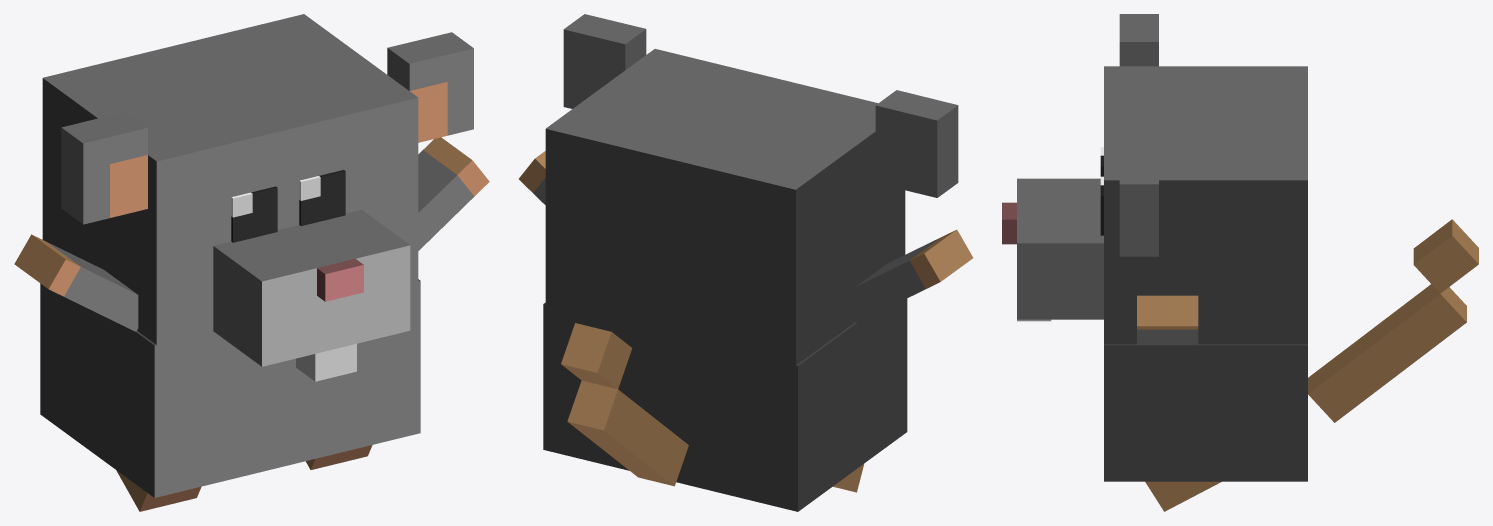
File: Ch_183@Down.FBX
3 views of the same model, side by side, from view 1: azimuth 30°, elevation 25°; view 2: azimuth 150°, elevation 25°; view 3: azimuth 270°, elevation 25° (orthographic). The views are drawn at different scales.
Visible parts, largest first — view 1: Ch_183_Head, Ch_183, Ch_183_Arm_L, Ch_183_Arm_R, Ch_183_Eye_01, Ch_183_Leg_L, Ch_183_Leg_R; view 2: Ch_183_Head, Ch_183, Ch_183_Tail, Ch_183_Arm_L, Ch_183_Arm_R; view 3: Ch_183_Head, Ch_183, Ch_183_Tail, Ch_183_Arm_R, Ch_183_Leg_R.
Part boxes in pixels (left/top/right/bottom): Ch_183_Head: left=42, top=14, right=473, bottom=381; Ch_183: left=40, top=279, right=420, bottom=497; Ch_183_Arm_L: left=14, top=234, right=138, bottom=331; Ch_183_Arm_R: left=418, top=137, right=489, bottom=250; Ch_183_Eye_01: left=231, top=170, right=345, bottom=242; Ch_183_Leg_L: left=116, top=470, right=201, bottom=511; Ch_183_Leg_R: left=306, top=445, right=372, bottom=469; Ch_183_Head: left=545, top=14, right=958, bottom=365; Ch_183: left=543, top=298, right=907, bottom=511; Ch_183_Tail: left=561, top=323, right=688, bottom=486; Ch_183_Arm_L: left=854, top=229, right=973, bottom=322; Ch_183_Arm_R: left=519, top=151, right=545, bottom=204; Ch_183_Head: left=1002, top=14, right=1307, bottom=344; Ch_183: left=1104, top=344, right=1307, bottom=481; Ch_183_Tail: left=1308, top=219, right=1478, bottom=422; Ch_183_Arm_R: left=1137, top=295, right=1198, bottom=345; Ch_183_Leg_R: left=1145, top=481, right=1221, bottom=511.
Size of the model in its own units: 11.17 by 9.84 by 11.71.
